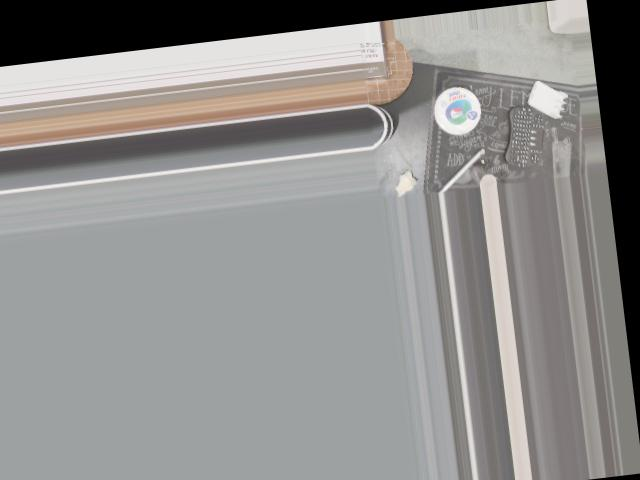cotage: (427, 75, 485, 138)
